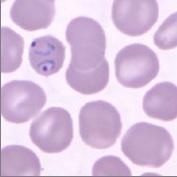Infected: (28, 35, 65, 77)
Uninfected: (121, 123, 173, 168), (66, 16, 106, 72), (78, 100, 121, 150), (29, 107, 73, 154), (115, 43, 159, 88), (0, 80, 46, 123), (65, 55, 110, 95), (111, 0, 159, 36), (10, 0, 55, 31), (142, 82, 177, 121), (0, 144, 40, 177), (0, 26, 24, 73), (153, 13, 177, 51)
